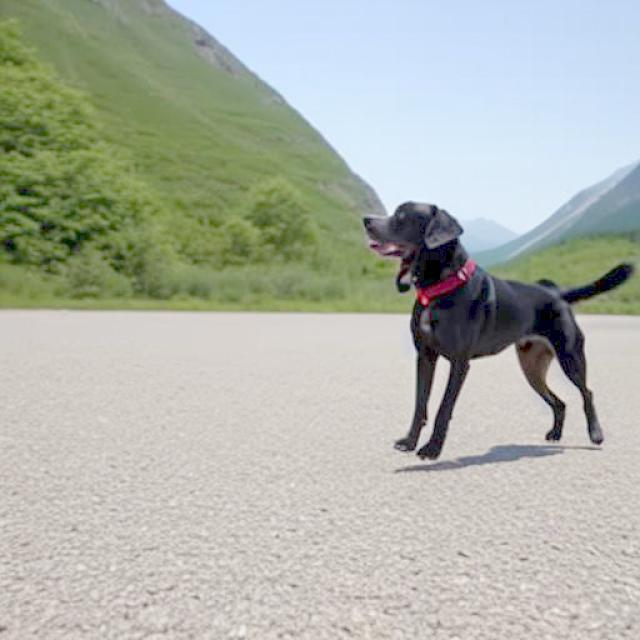Dog: (361, 200, 636, 462)
